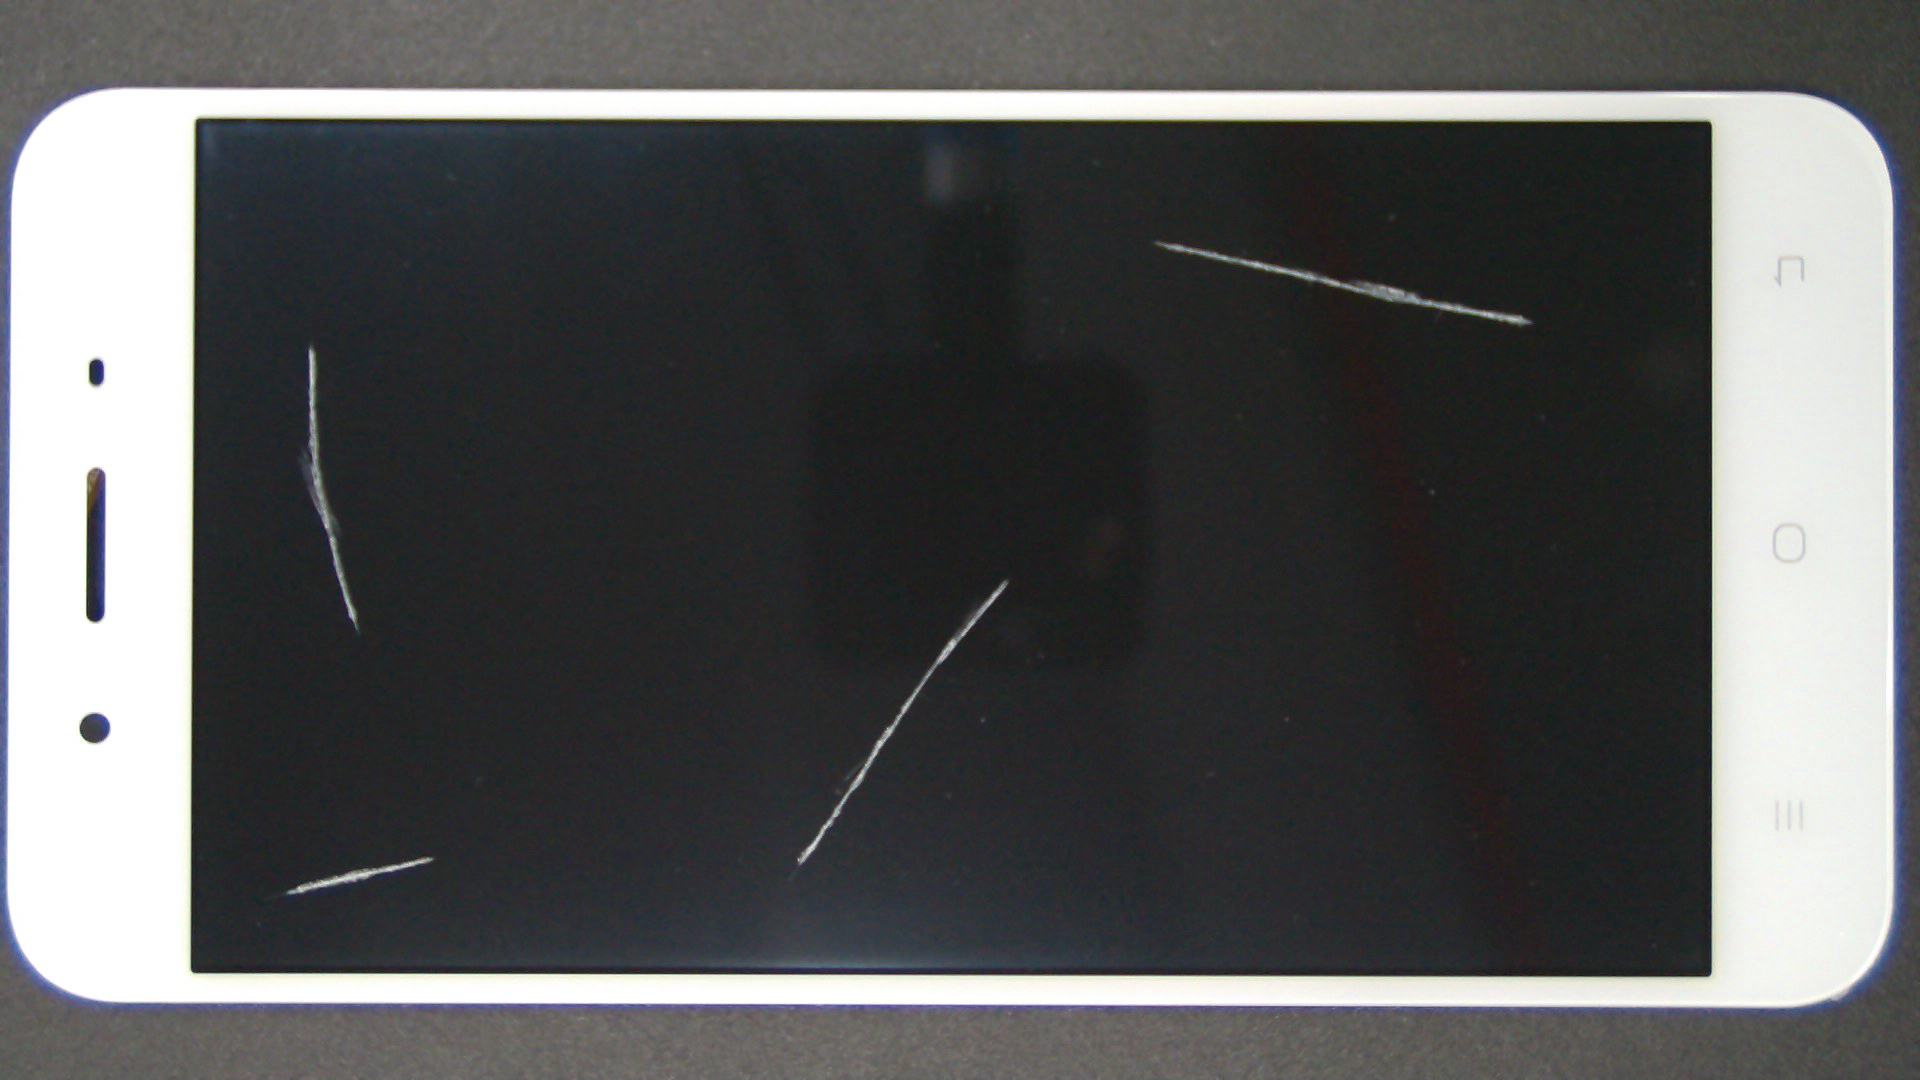defect: (795, 578, 1009, 866), (1154, 239, 1534, 327), (299, 344, 360, 634), (285, 856, 435, 894)
